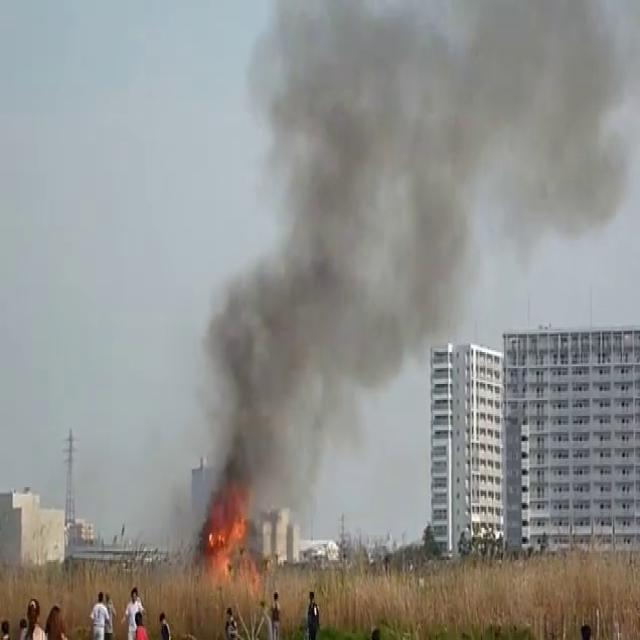Fire: (198, 492, 260, 580)
Smoke: (186, 0, 638, 526)
